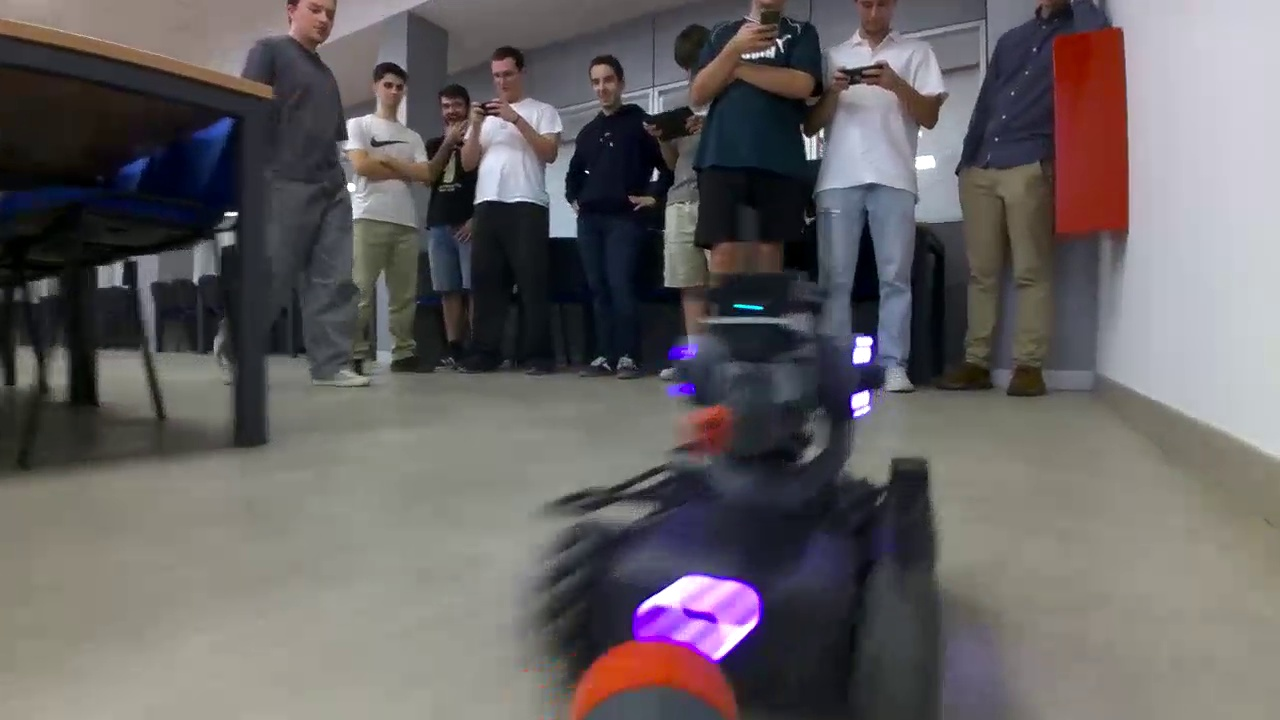robot: (514, 331, 954, 696)
